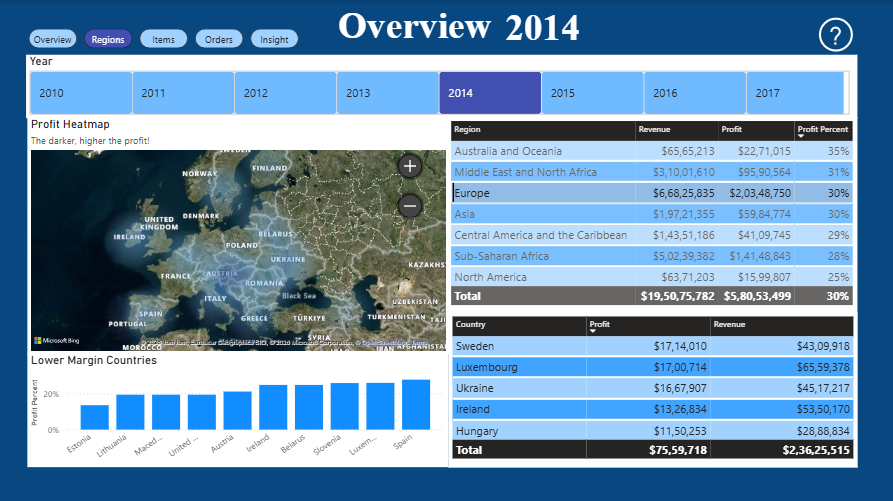

The page's visual inventory and layout, read from the dashboard file:
{"tool":"powerbi","page":{"name":"Regions","canvas":[1280,720],"ordinal":1},"visuals":[{"type":"textbox","box":[457.1,0,269.1,100.9],"z":0},{"type":"advancedSlicerVisual","fields":{"Values":["Date.Year"]},"box":[38.1,78.6,1185.7,90.5],"z":1000},{"type":"pageNavigator","box":[40.5,40.5,385.7,28.6],"z":3000},{"type":"card","fields":{"Values":["Records.This.Year"]},"box":[688.6,0,168.2,67.3],"z":4000},{"type":"map","title":"Profit Heatmap","fields":{"Category":["Country.Country"],"Size":["Records.This.Profit"]},"box":[39,167.6,601.7,337.6],"z":5000},{"type":"tableEx","title":"Revenue by Region","fields":{"Values":["Country.Region","Records.This.Revenue","Records.This.Profit","Records.Profit Percent"]},"box":[638.1,166.7,585.7,281],"z":6000},{"type":"tableEx","title":"Revenue by Region","fields":{"Values":["Country.Country","Records.This.Profit","Records.This.Revenue"]},"box":[639.9,446.6,584,221.2],"z":7000},{"type":"columnChart","title":"Lower Margin Countries","fields":{"Category":["Country.Country"],"Y":["Records.Profit Percent"]},"box":[39.6,504.4,600.3,162.6],"z":8000},{"type":"image","box":[0,0,1280,720],"z":9000},{"type":"actionButton","box":[1162.5,22.5,62.5,55],"z":10000}]}

Visuals, with their boxes in screenshot pixels (x1, y1, x2, y2), scaled from the page's 1280x720 canvas onto the 893x501 screenshot:
textbox: (319,0,507,70)
advancedSlicerVisual - Date.Year: (27,55,854,118)
pageNavigator: (28,28,297,48)
card - Records.This.Year: (480,0,598,47)
"Profit Heatmap" map: (27,117,447,352)
"Revenue by Region" tableEx: (445,116,854,312)
"Revenue by Region" tableEx: (446,311,854,465)
"Lower Margin Countries" columnChart: (28,351,446,464)
image: (0,0,892,500)
actionButton: (811,16,855,54)
